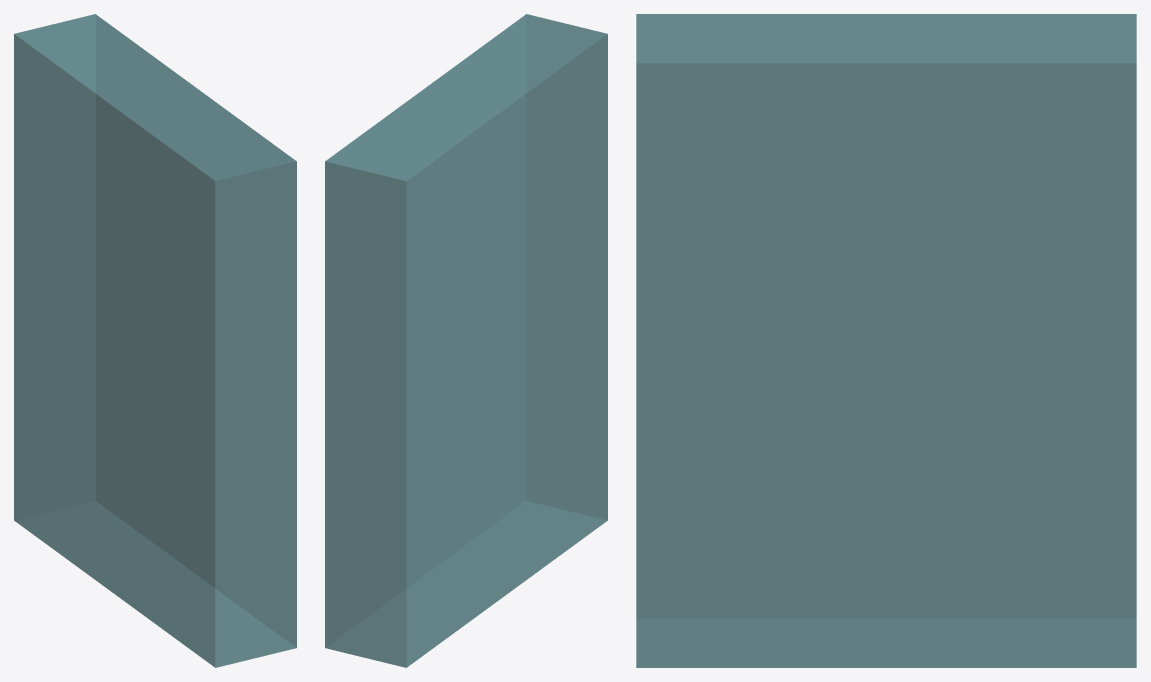
The picture shows the model from 3 angles, left to right: view 1: azimuth 30°, elevation 25°; view 2: azimuth 150°, elevation 25°; view 3: azimuth 270°, elevation 25°; orthographic projection. The views are drawn at different scales.
Parts seen in each view (by area): view 1: A-FF-98E; view 2: A-FF-98E; view 3: A-FF-98E.
Boxes of the visible parts, x1=… form: A-FF-98E: x1=14, y1=14, x2=296, y2=667; A-FF-98E: x1=325, y1=14, x2=607, y2=667; A-FF-98E: x1=636, y1=14, x2=1136, y2=667.
Size of the model in its own units: 0.21 by 1.2 by 0.9.
